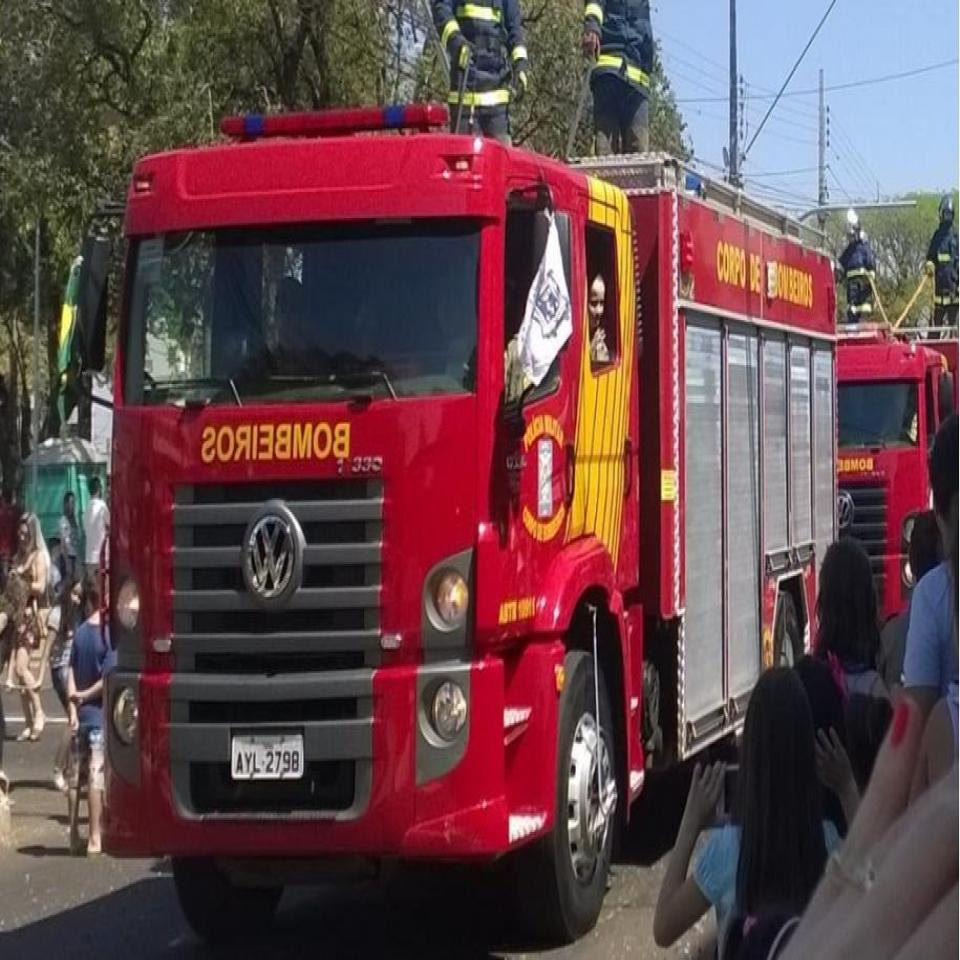viatura: (95, 87, 840, 959)
